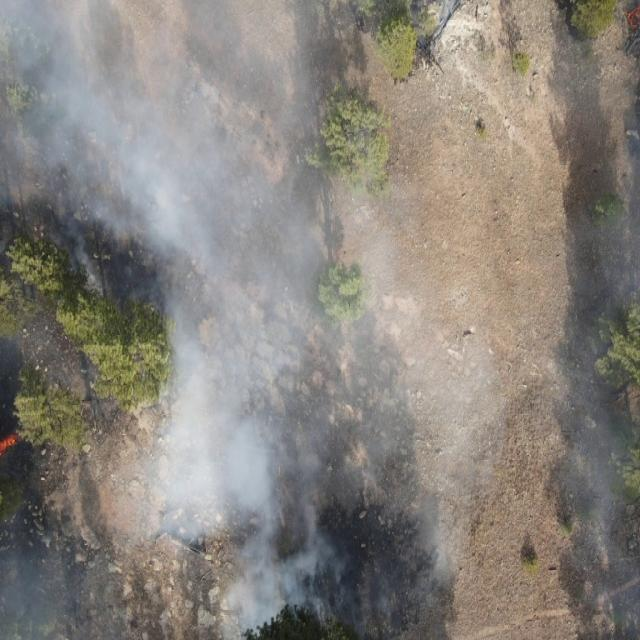fire: (624, 0, 640, 36), (0, 433, 19, 457)
smoke: (0, 0, 404, 640), (559, 191, 640, 640), (404, 286, 470, 640), (469, 348, 506, 514)
